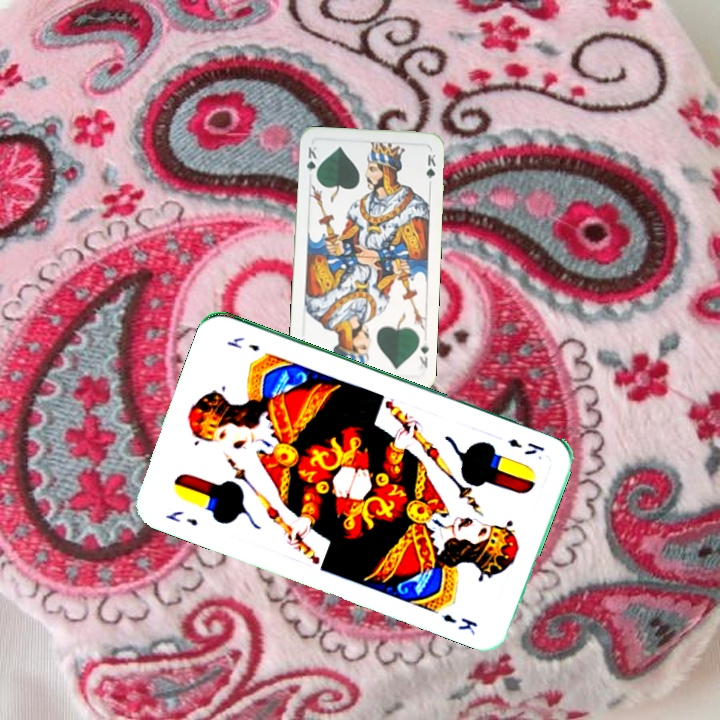EK: (504, 434, 547, 458), (162, 506, 200, 529)
GK: (303, 142, 319, 182), (415, 338, 432, 370)
